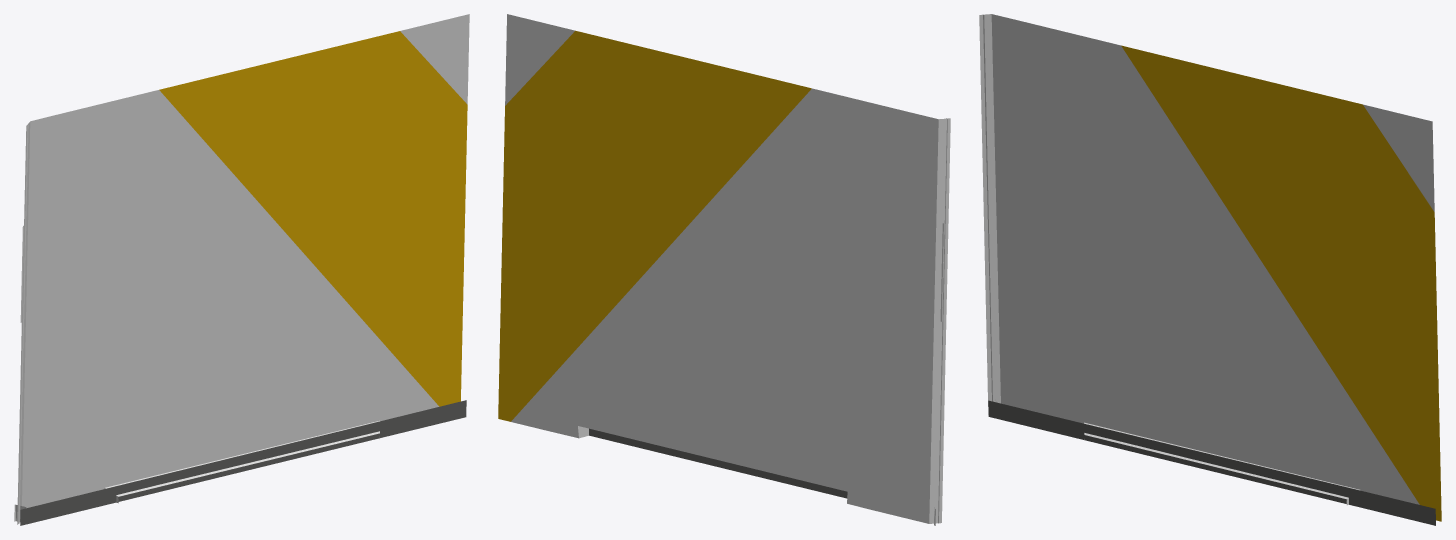
3 renders of one model, left to right at view 1: azimuth 30°, elevation 25°; view 2: azimuth 150°, elevation 25°; view 3: azimuth 330°, elevation 25°, orthographic. The views are drawn at different scales.
Parts seen in each view (by area): view 1: 709DD9DE4E2A8A7AD399839F846768E3; view 2: 709DD9DE4E2A8A7AD399839F846768E3; view 3: 709DD9DE4E2A8A7AD399839F846768E3.
Part boxes in pixels (box(x1,y1,x2,y2)): 709DD9DE4E2A8A7AD399839F846768E3: box(14, 14, 469, 525); 709DD9DE4E2A8A7AD399839F846768E3: box(498, 14, 950, 525); 709DD9DE4E2A8A7AD399839F846768E3: box(979, 14, 1441, 525).
Bounding box in the file's own units: 3.27 × 61.44 × 53.21.
